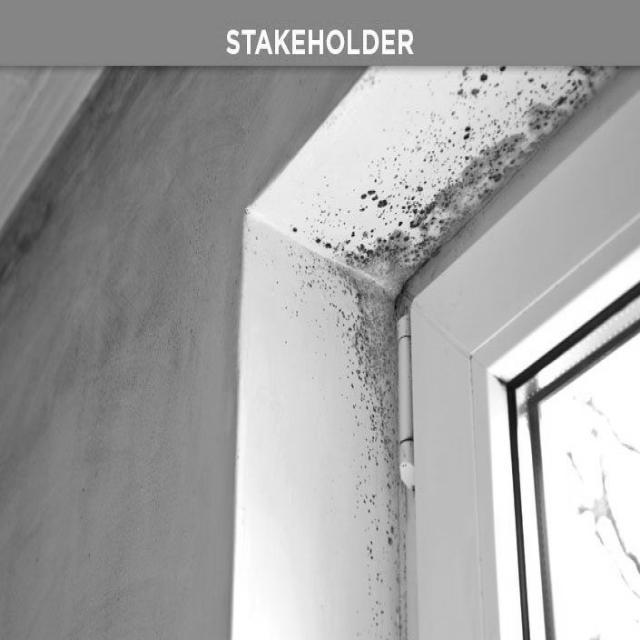stain marks: (290, 65, 622, 640)
